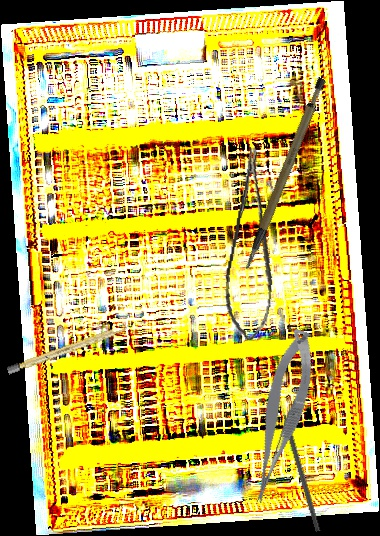Hook Surgical: (275, 392, 322, 533)
Micro Scissor: (230, 326, 330, 507), (215, 146, 295, 343)
Scalpel Handle: (214, 75, 351, 271), (6, 323, 130, 375)
